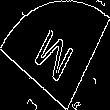M_SW: (31, 21, 79, 89)
